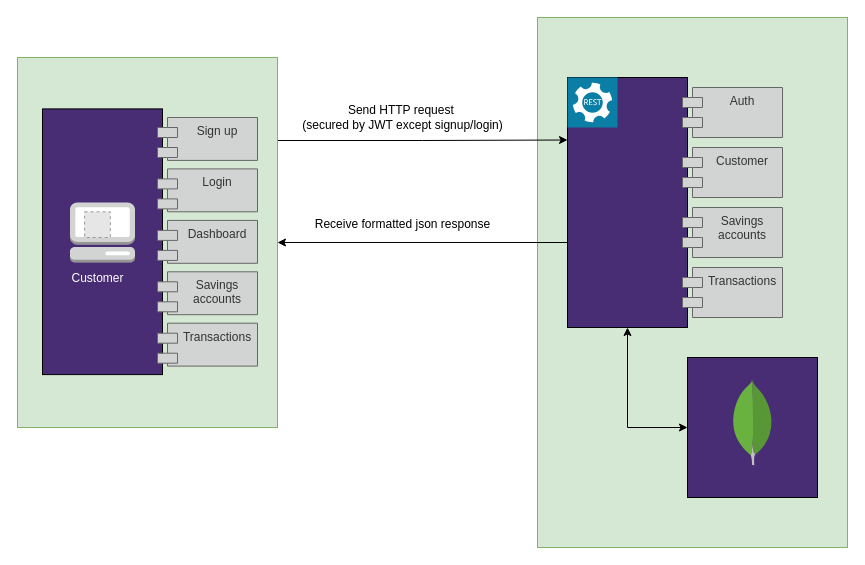
Image size: 865x565. Some labels were removed from this diagram. Grey dashed boxes stand in for pictures. Each missing label, with the box of its shape:
Banking API: (566, 76, 688, 328)
Banking MongoDB: (731, 378, 773, 466)
